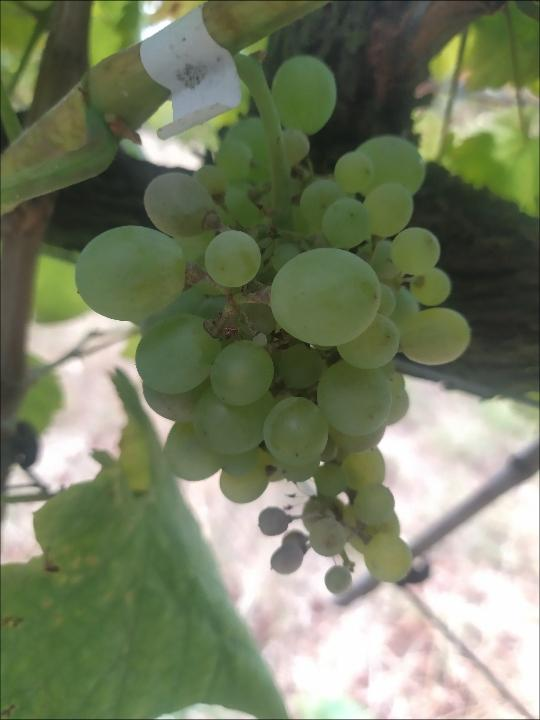grape: (72, 51, 475, 597)
